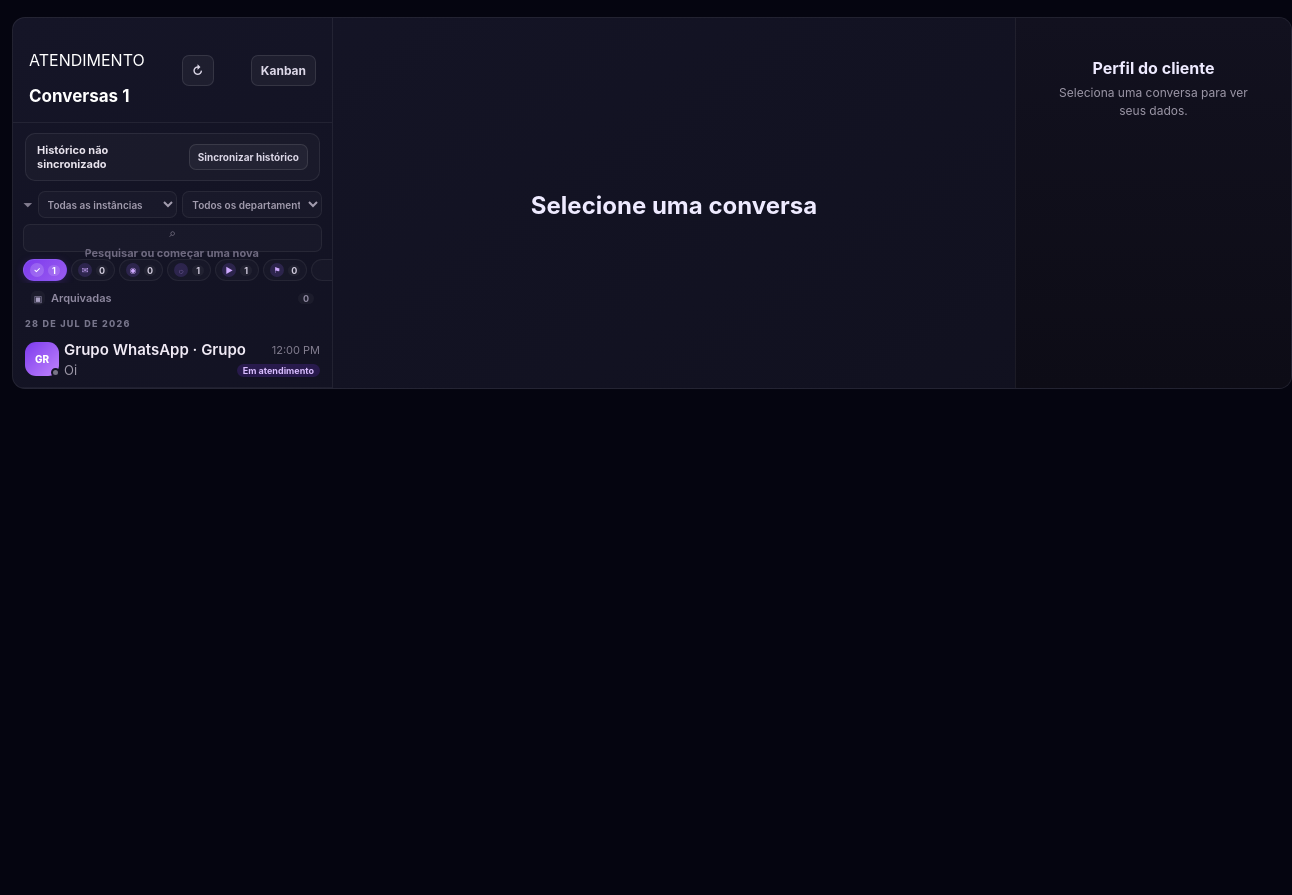
Test: Inbox group mentions › filters by name as the operator keeps typing
The image size is (1292, 895).
Click the button with class "conversation-item" at (172, 360), box [13,331,332,388]
(page scrolled)
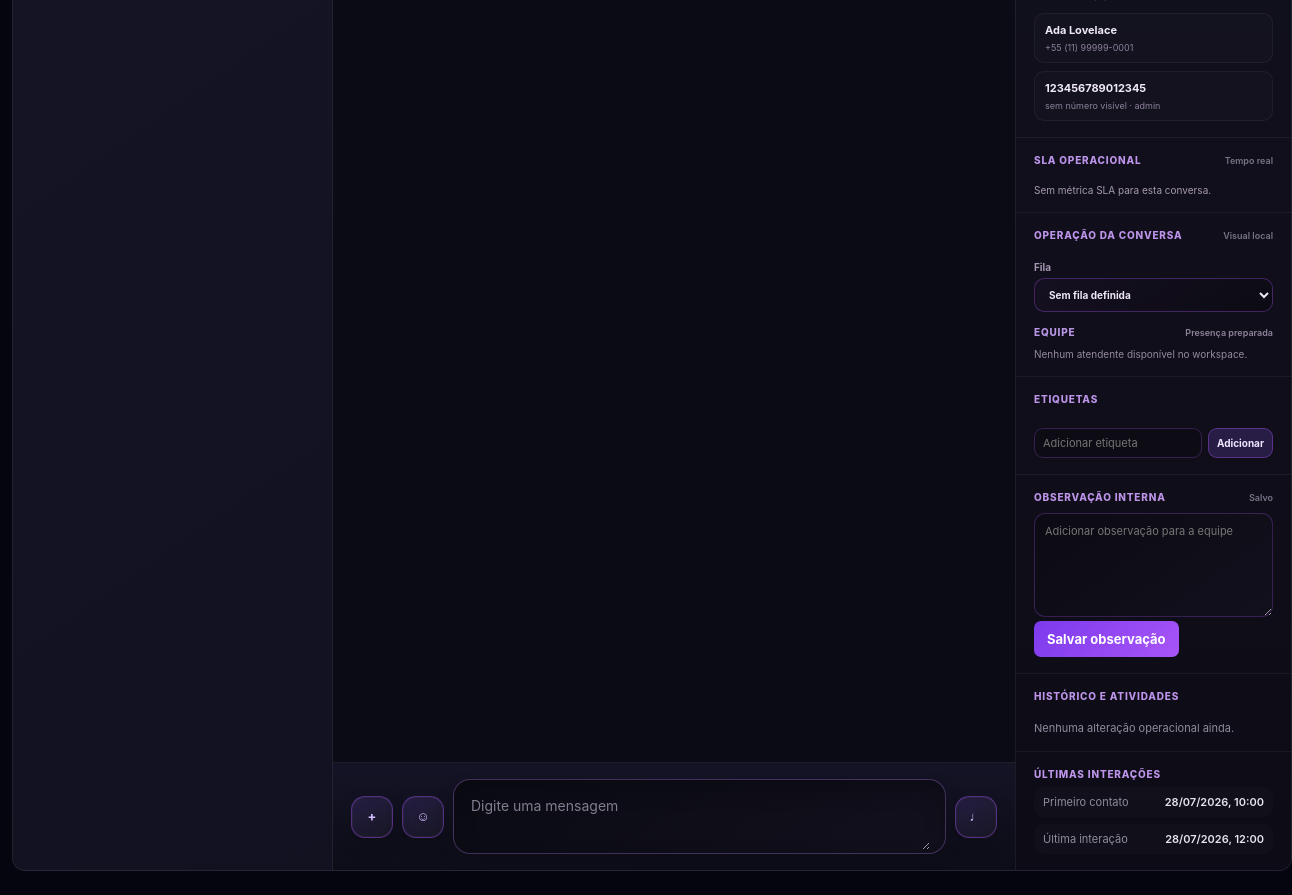
Type "bom dia @ad" into the text box labelled "mensagem" at (700, 817), box [471,783,930,850]
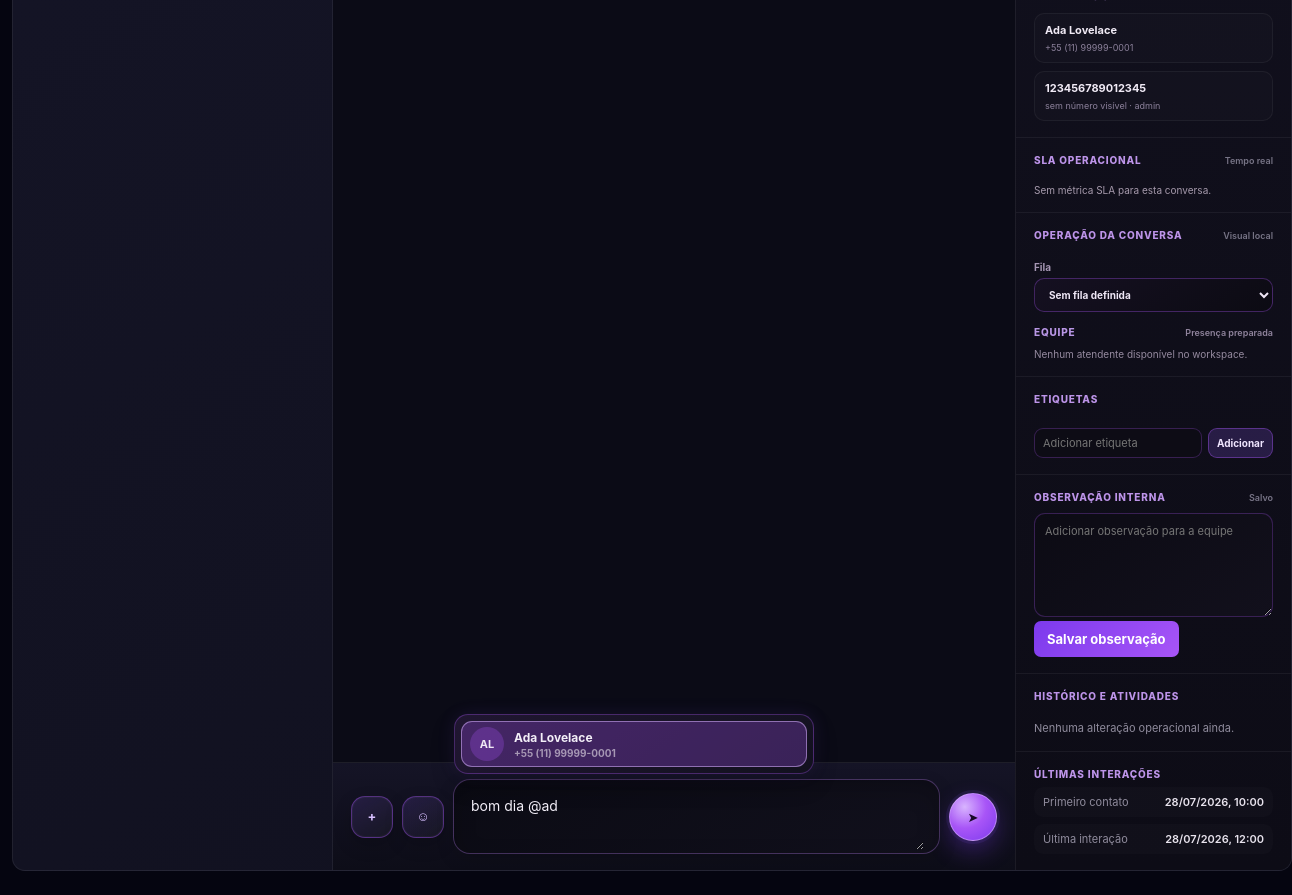
Now the number of options is 1, box [461,721,807,767]
Now the list with class "composer-mention" shows "Ada Lovelace", box [461,721,807,767]
